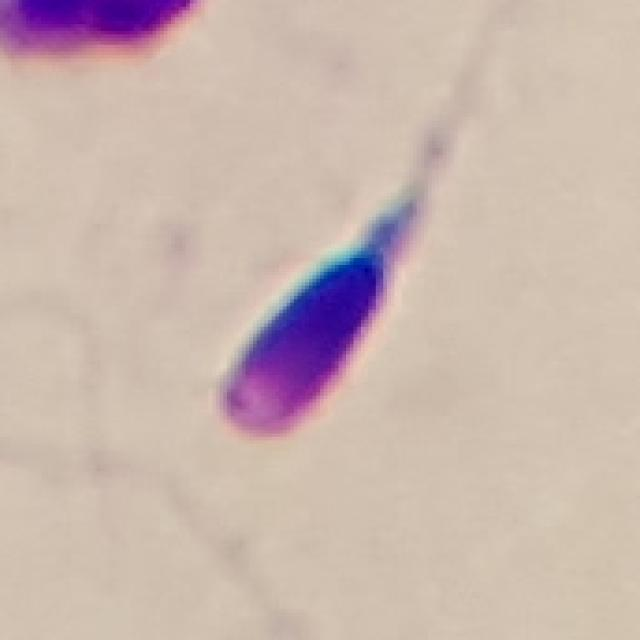abnormal sperm: (215, 98, 464, 438)
